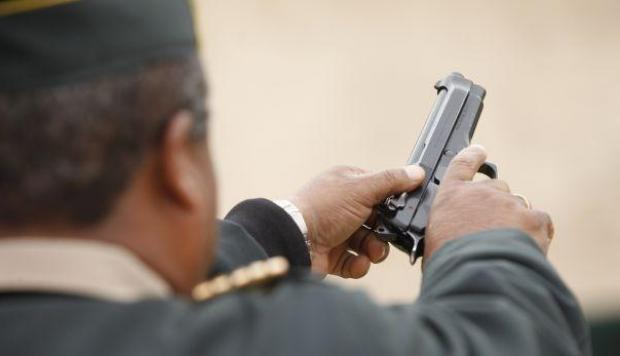Arma Real: (371, 68, 505, 267)
